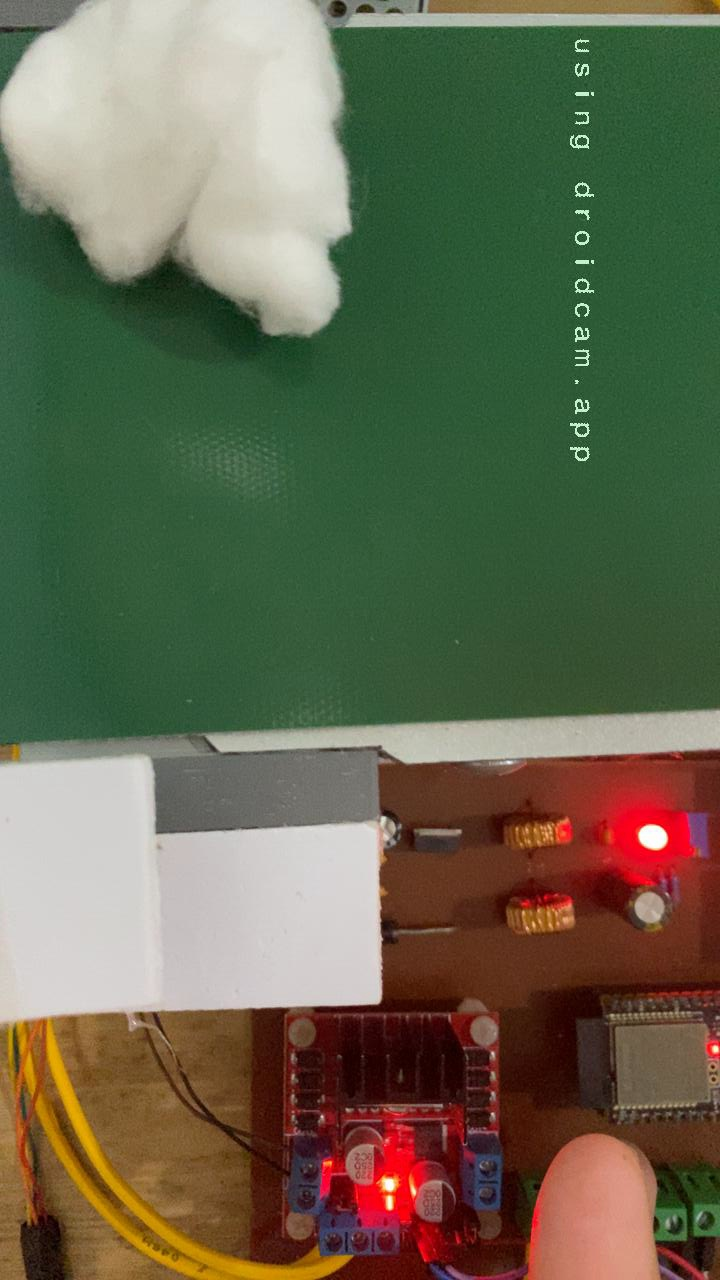cotton: (0, 26, 361, 342)
